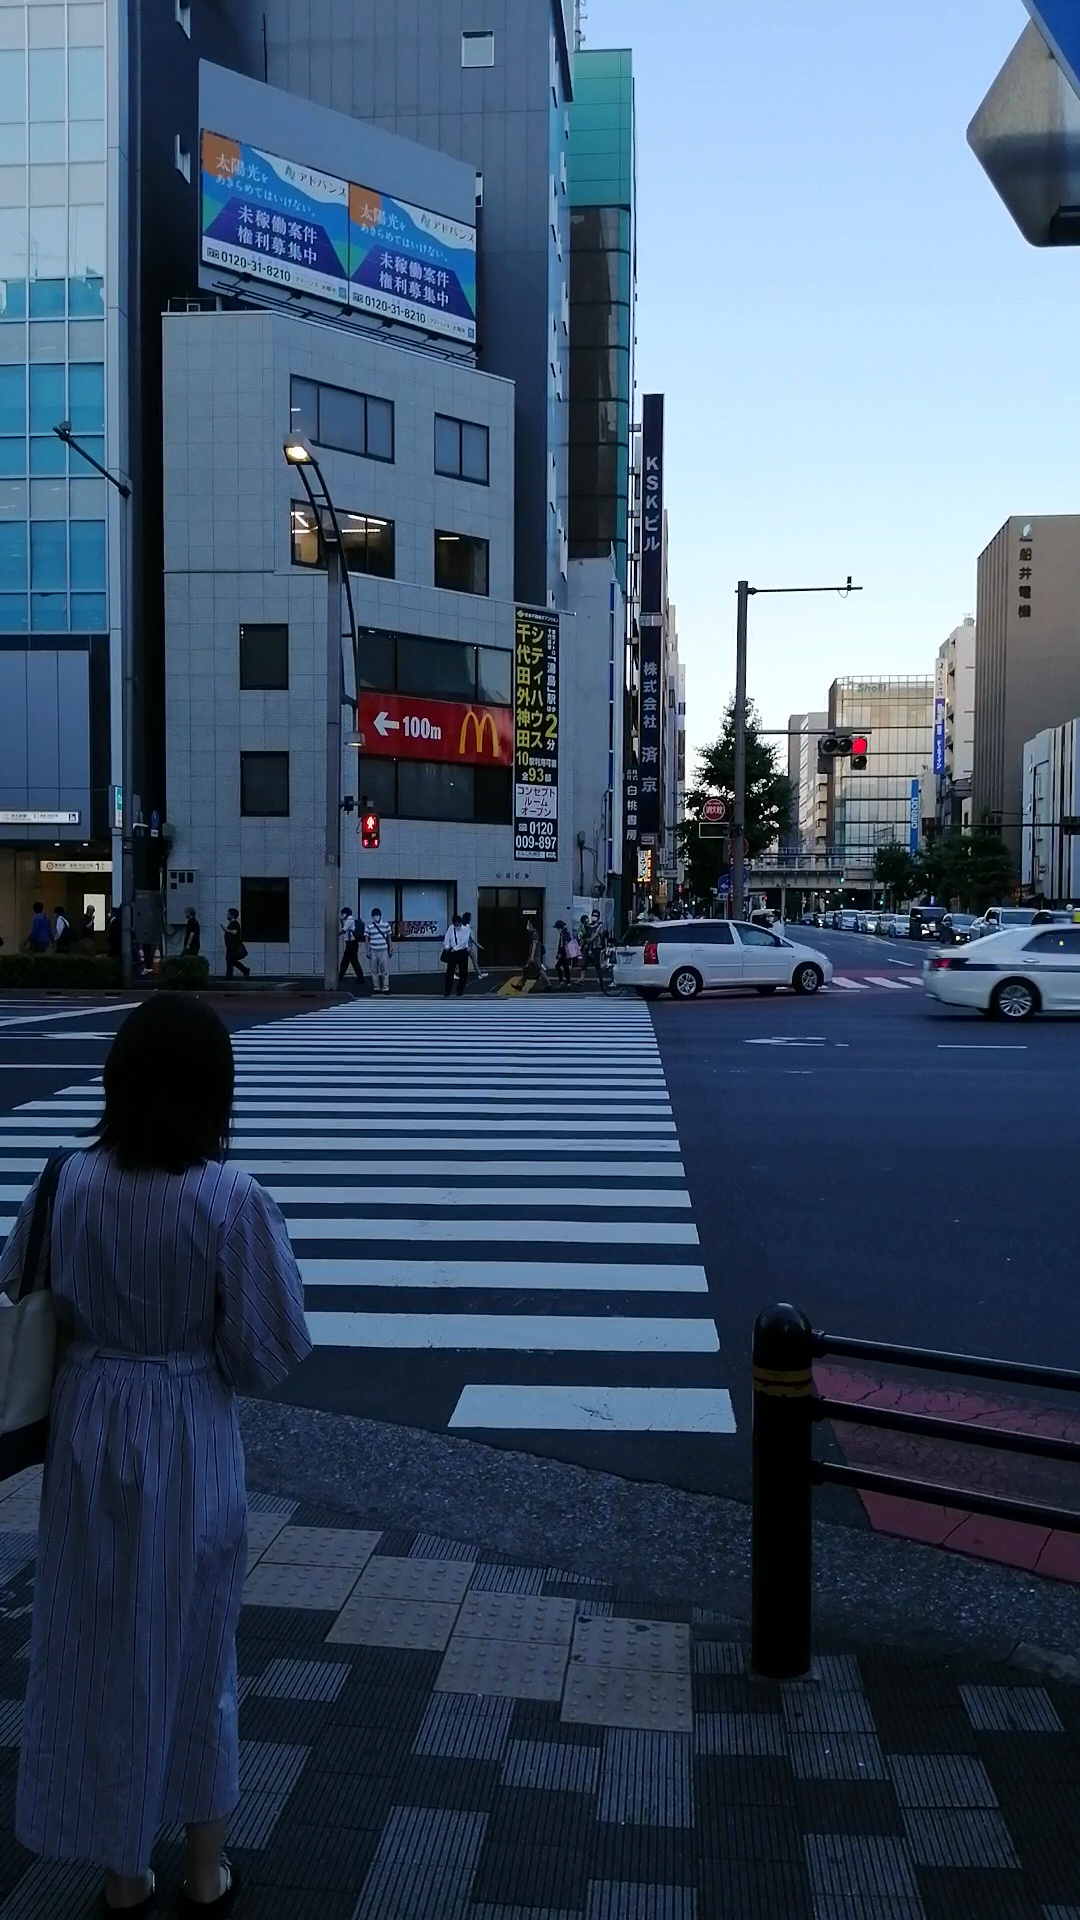red: (360, 810, 381, 851)
